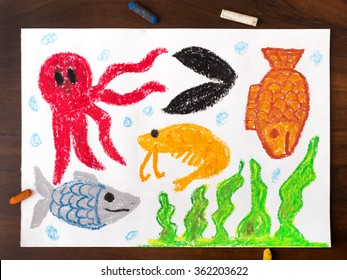fish: (242, 47, 312, 161), (30, 164, 143, 230)
